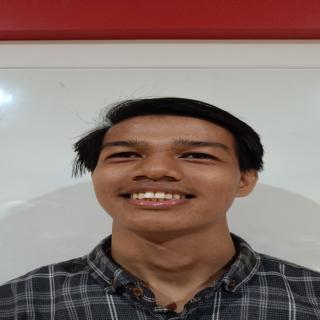Senang: (88, 107, 260, 240)
